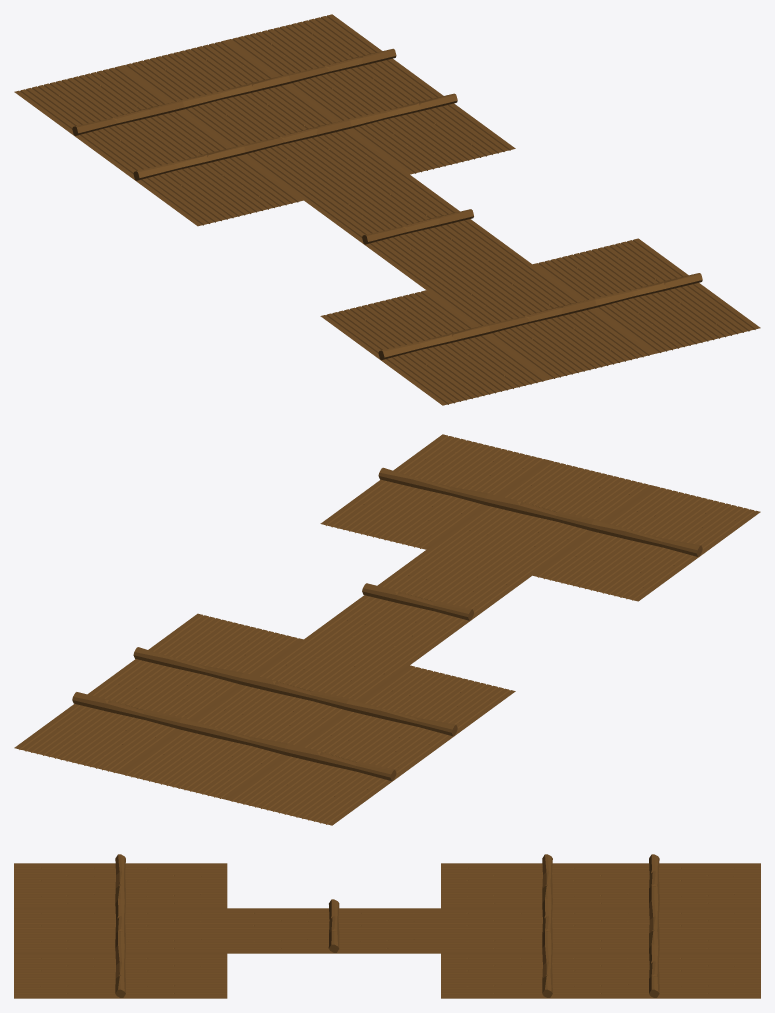
The model's file is dungeon_ceil.fbx.
The picture shows the model from 3 angles, top to bottom: view 1: azimuth 30°, elevation 25°; view 2: azimuth 150°, elevation 25°; view 3: azimuth 270°, elevation 25°; orthographic projection. The views are drawn at different scales.
Parts seen in each view (by area): view 1: Plane.024; view 2: Plane.024; view 3: Plane.024.
Part boxes in pixels (x1,y1,x2,y2): Plane.024: [14, 14, 760, 405]; Plane.024: [14, 434, 760, 825]; Plane.024: [14, 854, 760, 998].
Bounding box in the file's own units: 1200 × 40.32 × 2800.
